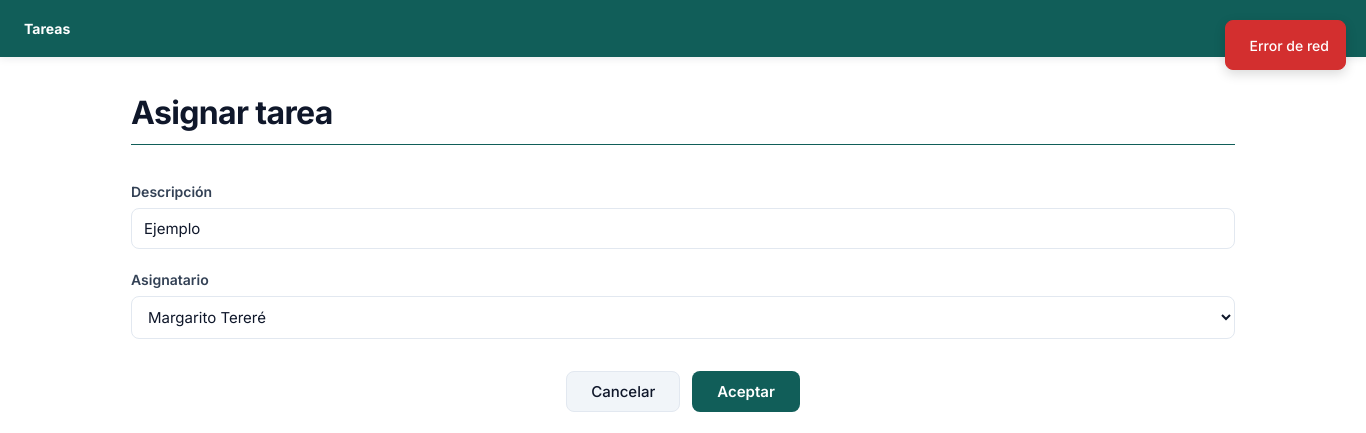
it: tests de asignar tarea con paginador activado › al fallar la actualizacion se muestra toast de error
Click the button with test id "aceptar" at (746, 392), box [692, 371, 800, 412]
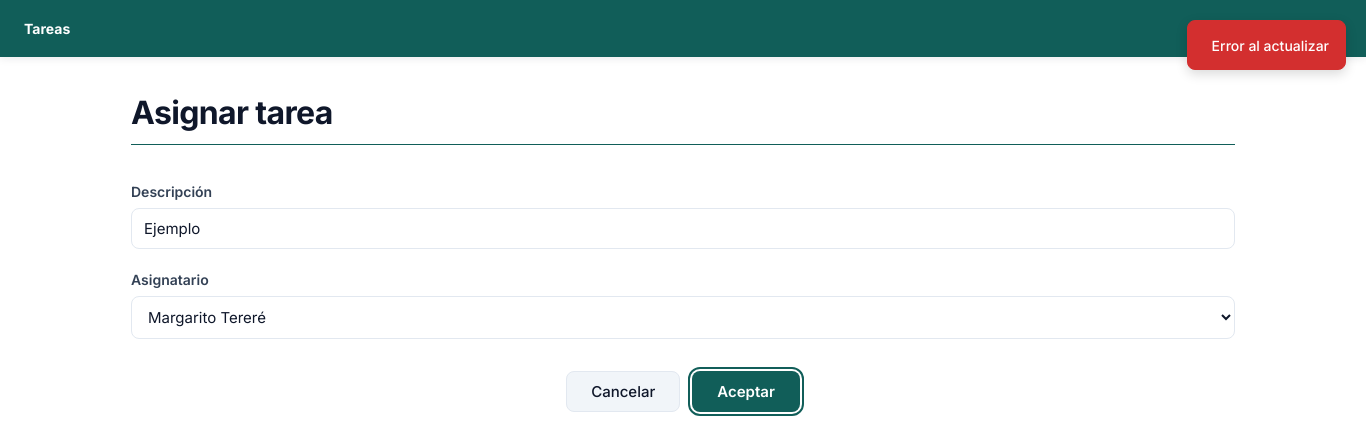
expect the text "Error al actualizar" is shown: met, box [1187, 20, 1346, 70]
